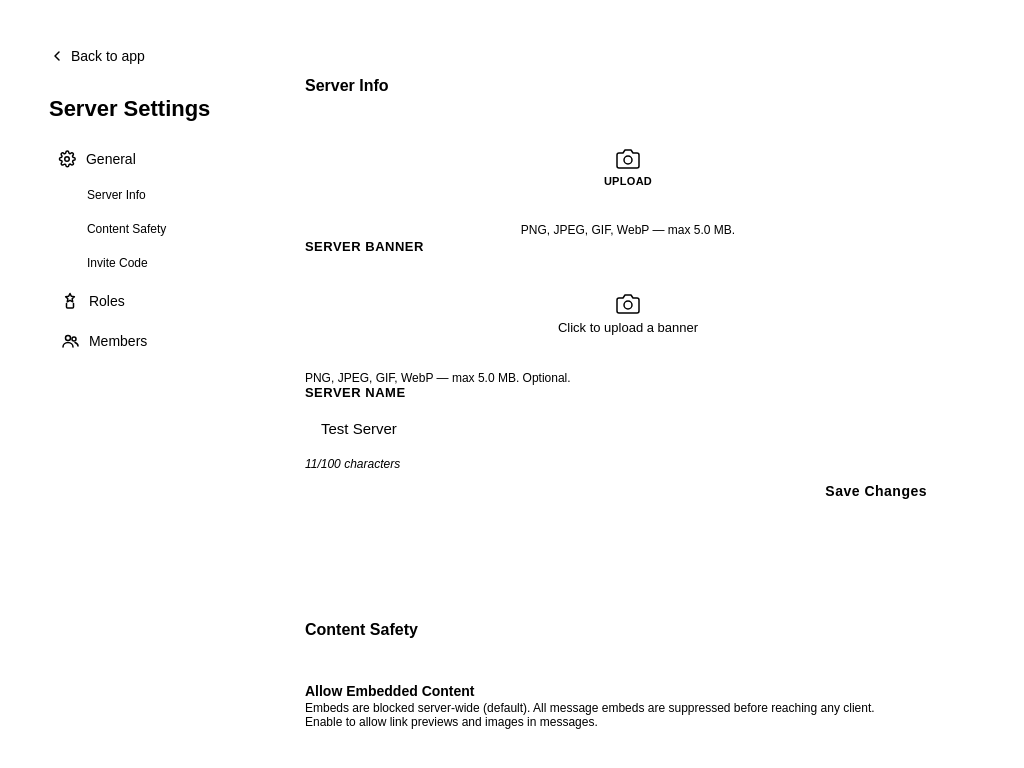
Test: ServerSettingsPage › switches to Roles section on nav click
Click the button "Roles". click: [149, 301]
box: [49, 282, 249, 320]
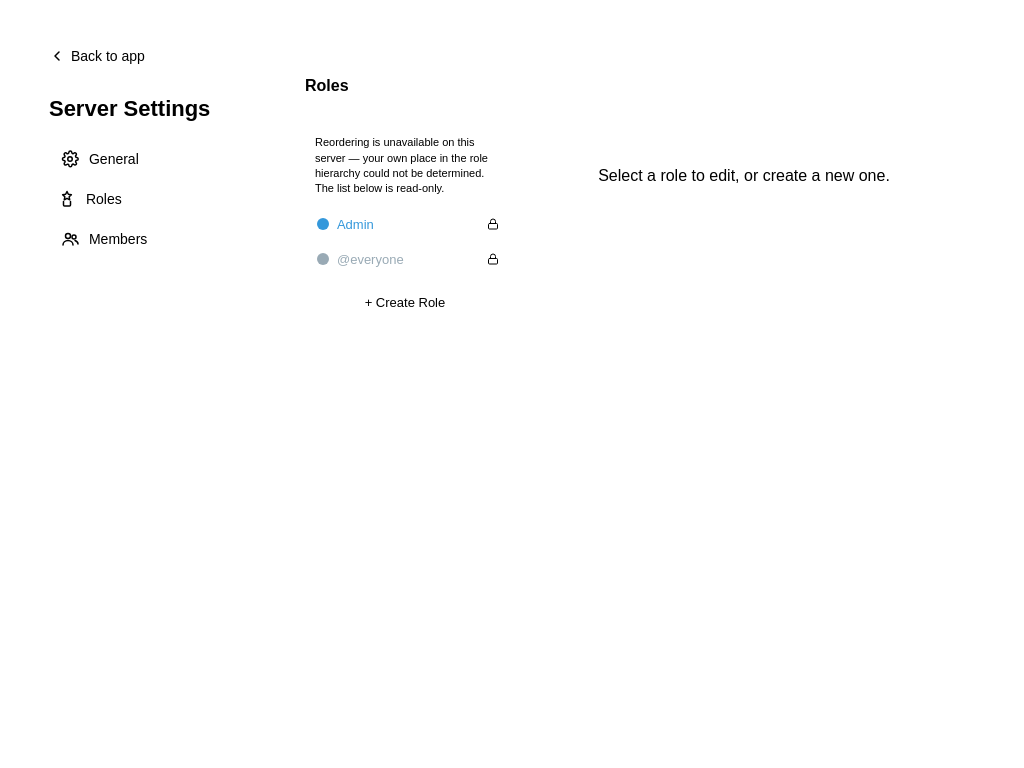
Now the button "+ Create Role" is shown, box [305, 287, 505, 318]
